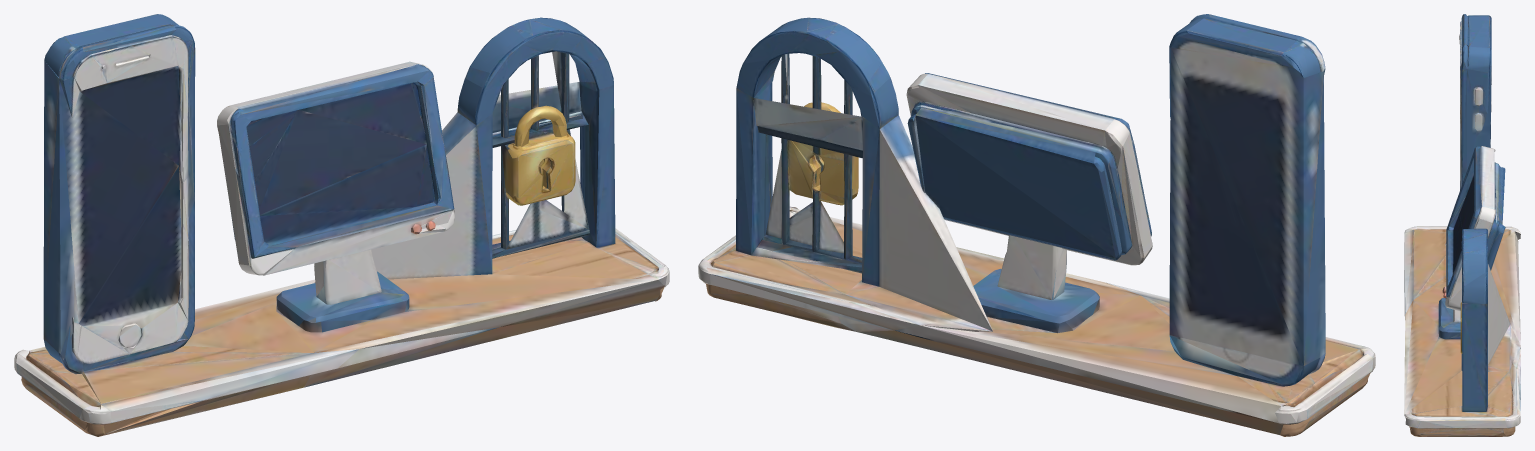
Rendered from display-stands.glb.
3 renders of one model, left to right at view 1: azimuth 30°, elevation 25°; view 2: azimuth 150°, elevation 25°; view 3: azimuth 270°, elevation 25°, orthographic. The views are drawn at different scales.
Size of the model in its own units: 1.9 by 1.11 by 0.4827.
1 material, 1 textured.
